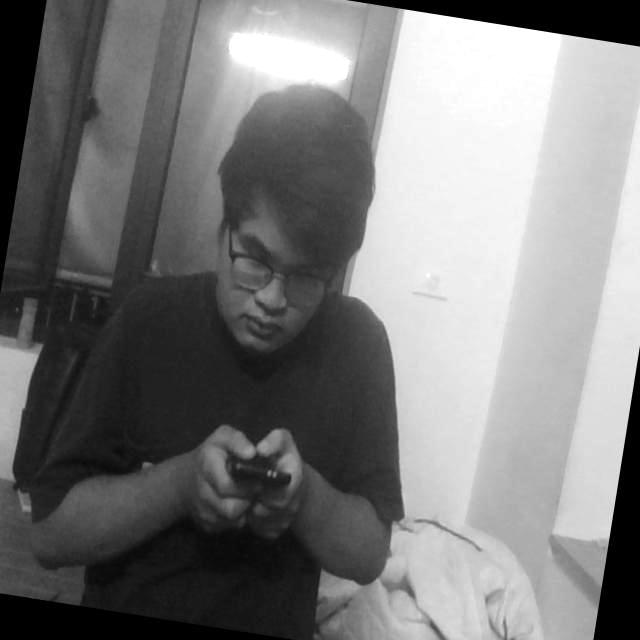phone: (197, 427, 304, 532)
